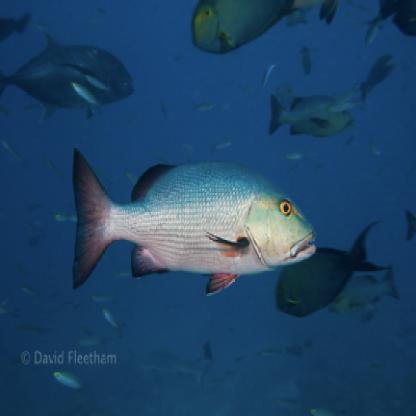Lutjanidae -Snappers-: (67, 137, 321, 303)
